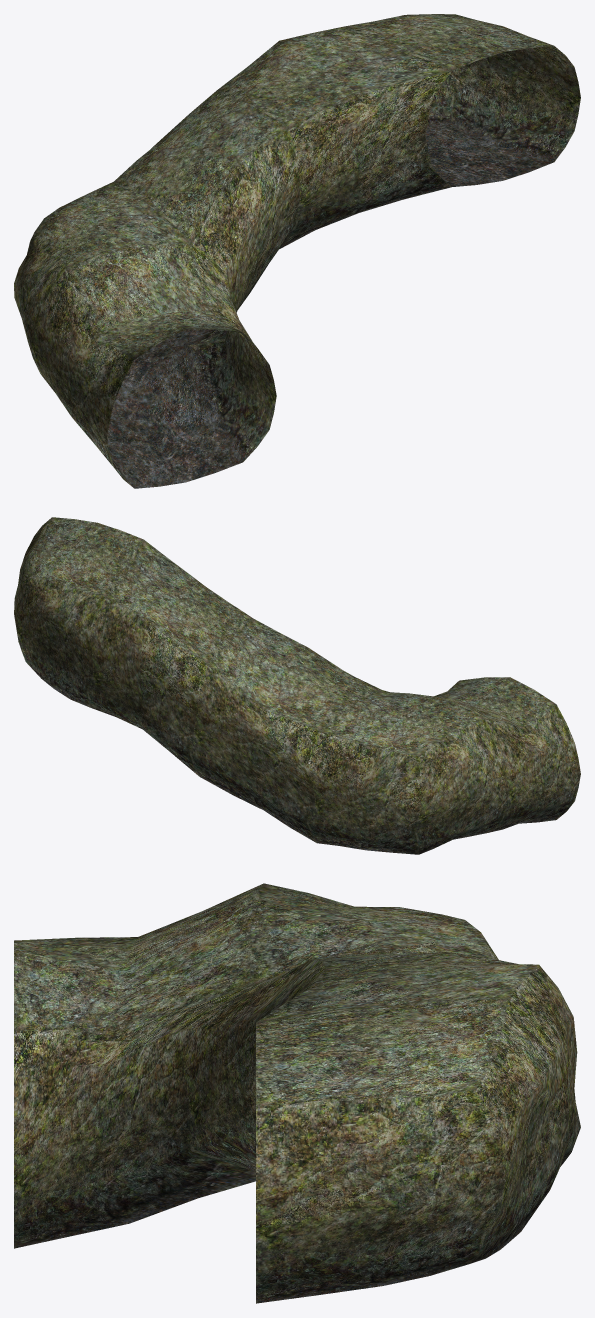
Rendered from thm_all_cave_s03_damprock_mirror_r24_r24.fbx.
3 views of the same model, one above another, from view 1: azimuth 30°, elevation 25°; view 2: azimuth 150°, elevation 25°; view 3: azimuth 270°, elevation 25° (orthographic). The views are drawn at different scales.
Parts seen in each view (by area): view 1: mesh_node; view 2: mesh_node; view 3: mesh_node.
Part boxes in pixels (box(x1,y1,x2,y2)): mesh_node: box(14, 14, 580, 488); mesh_node: box(14, 517, 580, 854); mesh_node: box(14, 883, 580, 1303).
Size of the model in its own units: 35.17 by 17.46 by 18.73.
